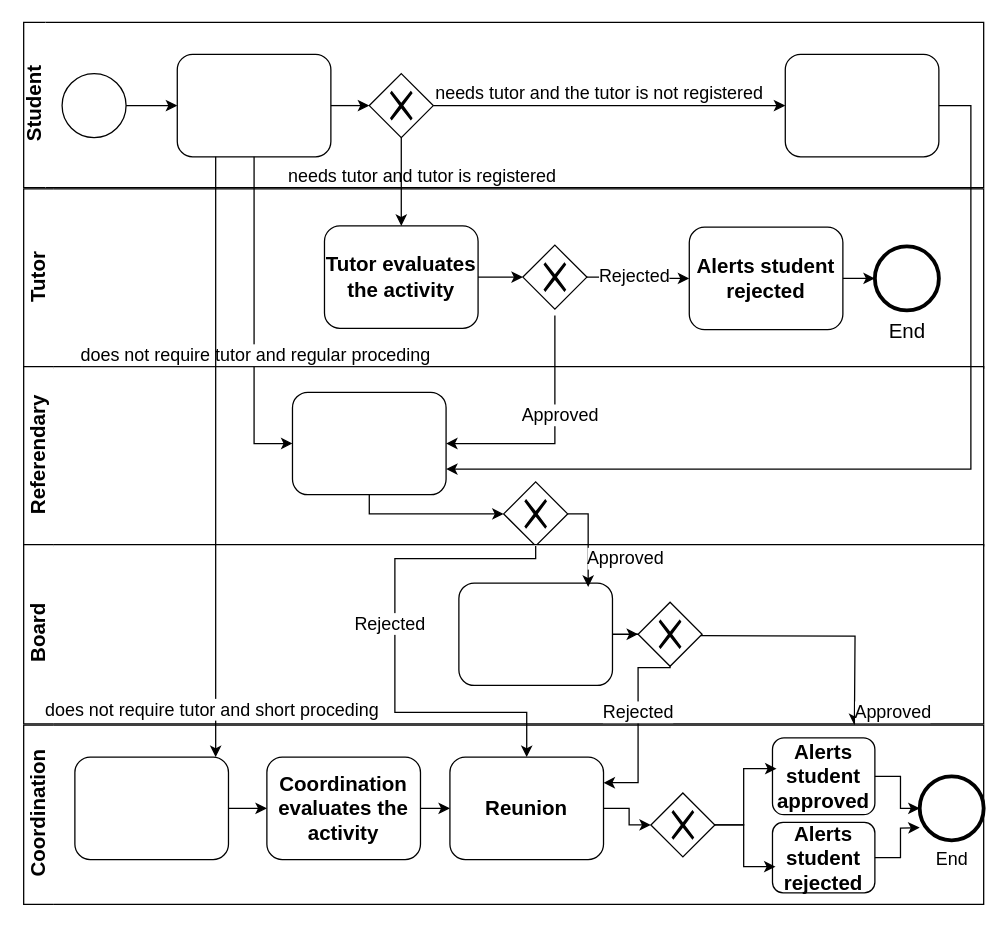
Some shapes in this 1006 by 927 pixel diagram are drawn without their labels. Each missing label, with the box of its shape:
Attach tutor's feedback: (784, 53, 939, 157)
Board evaluates the activity: (458, 582, 612, 685)
Referendary evaluates the activity: (291, 391, 446, 495)
Secretary evaluates the activity: (74, 756, 228, 860)
Start: (61, 72, 126, 138)
Student requests use of the activity: (176, 53, 331, 157)
